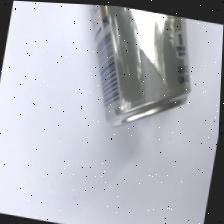metal: (71, 3, 211, 160)
